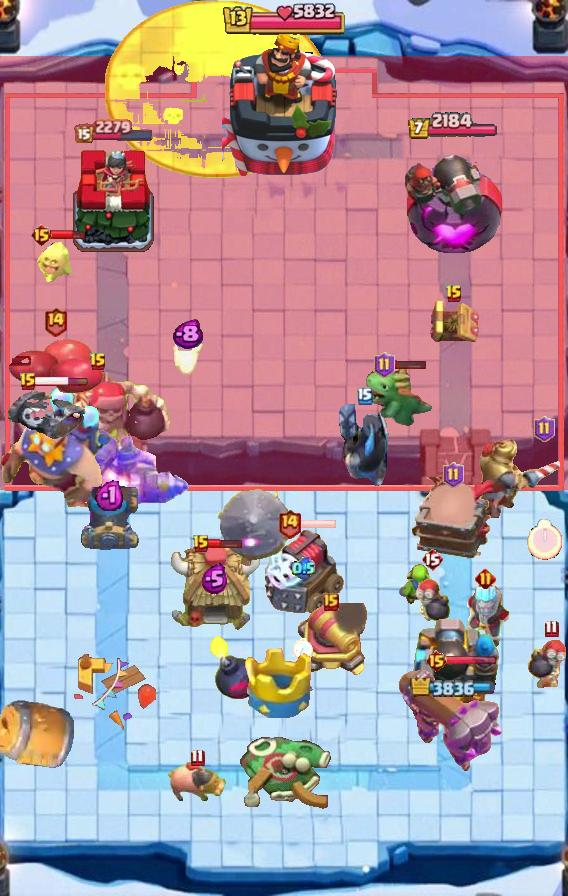baby-dragon: (208, 633, 262, 701)
bat-evolution: (34, 238, 74, 282)
clock: (221, 0, 347, 40)
dart-goblin: (412, 477, 497, 559)
dirt: (0, 700, 76, 772)
electro-giant: (52, 359, 172, 469)
electro-spirit: (173, 319, 203, 350), (95, 477, 123, 510), (201, 563, 228, 595), (292, 557, 315, 580)
electro-wizard: (362, 364, 433, 427)
elixir: (527, 520, 562, 561), (293, 638, 313, 661)
emote: (35, 376, 89, 387), (445, 654, 497, 665), (50, 228, 86, 241), (299, 518, 336, 530), (392, 358, 428, 370), (208, 539, 243, 550)
executioner: (168, 760, 226, 804)
furnace: (396, 666, 504, 776)
goblin-brawler: (427, 296, 481, 346)
golem: (260, 528, 346, 618)
ice-golem: (526, 637, 568, 689), (413, 575, 451, 631)
ice-spirit-evolution: (170, 339, 204, 377)
inferno-dragon: (335, 400, 395, 494)
king-tower: (222, 31, 346, 181)
little-prince: (0, 385, 112, 509)
mortar: (453, 580, 517, 652)
musketeer: (79, 486, 139, 550)
phoenix-egg: (105, 1, 329, 178)
prince: (167, 543, 261, 633)
queen-tower: (71, 144, 157, 255)
ram-rider: (462, 435, 568, 519)
royal-recruit: (292, 603, 370, 679)
royal-recruit-evolution: (4, 337, 106, 445)
selected: (407, 112, 499, 140), (73, 117, 154, 142), (410, 679, 496, 697)
text: (277, 508, 302, 539), (44, 307, 69, 337), (31, 223, 54, 247), (425, 649, 448, 673), (373, 352, 394, 378), (534, 416, 555, 442), (444, 462, 465, 488), (421, 547, 443, 571), (476, 567, 497, 588), (445, 284, 463, 304), (89, 352, 107, 372), (19, 372, 37, 392), (192, 534, 210, 554), (357, 387, 373, 405), (323, 593, 339, 611), (191, 749, 206, 767), (545, 619, 559, 637)
tower-bar: (403, 138, 503, 256), (406, 611, 500, 731)
wizard: (66, 429, 190, 507)
x-bow: (216, 488, 296, 568)
zap: (398, 561, 438, 605)
